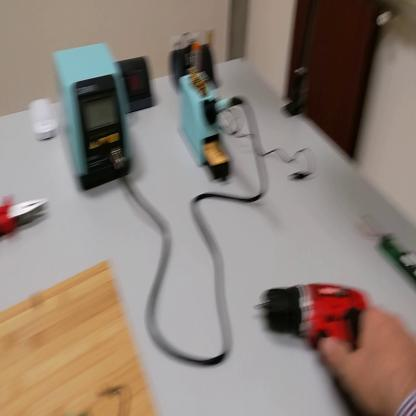electric screwdriver: (255, 287, 373, 415)
hand: (320, 303, 416, 415)
high voltage board: (355, 213, 416, 289)
pliers: (2, 196, 48, 240)
socket: (116, 53, 156, 117), (169, 39, 216, 92)
welder base: (180, 37, 235, 184)
welder probe tip: (212, 94, 247, 116)
welder station: (54, 42, 133, 196)
working area: (1, 256, 158, 416)
